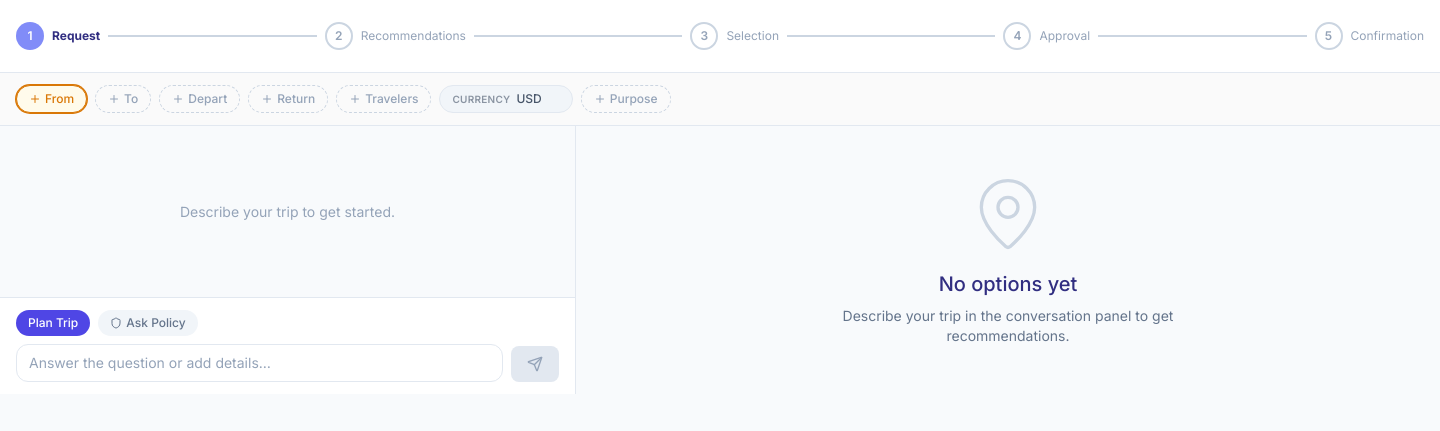
Test case: C7-07 PlannerScreen Ask Policy › needs_review with no draft shows the explicit no-answer message
The image size is (1440, 431).
Step 1. Click the button "Ask Policy" → (148, 323), box [98,310,198,336]
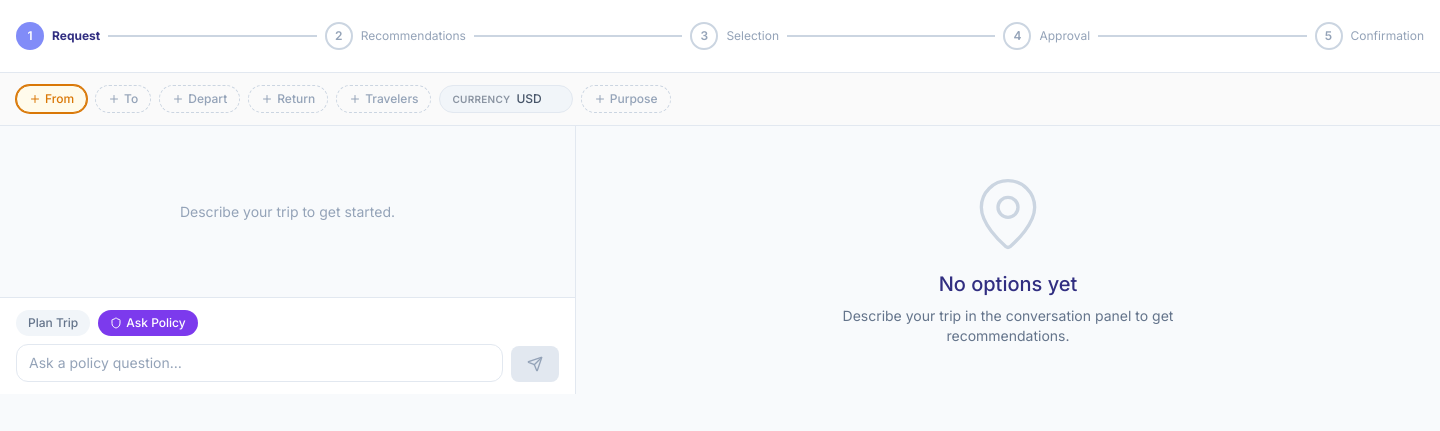
Step 2. Type "Hotel cap?" into the text box → (260, 363), box [16,344,503,382]
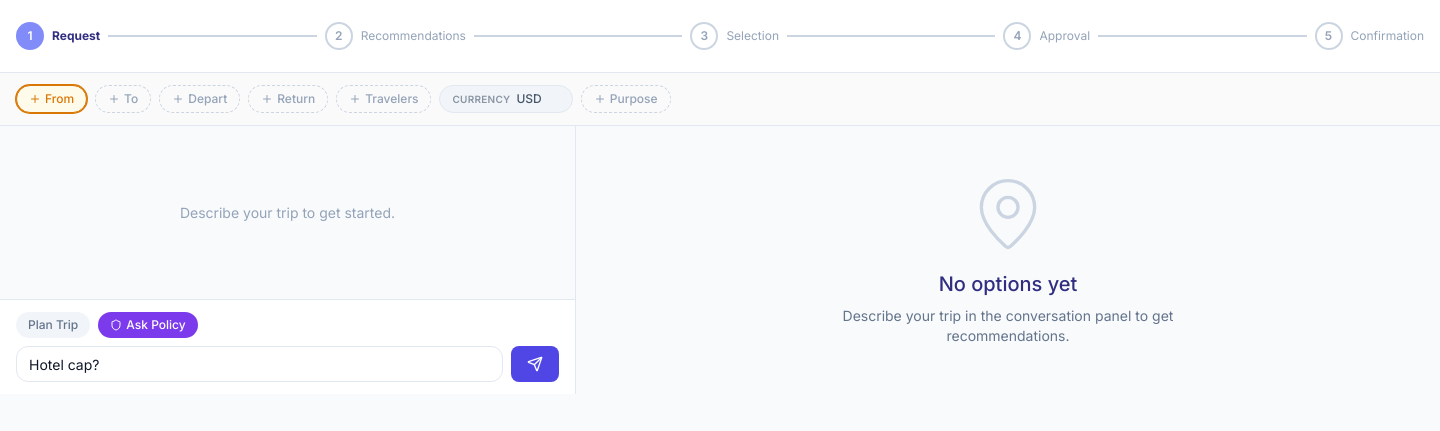
Step 3. Press Enter in the text box, box [16,346,503,382]
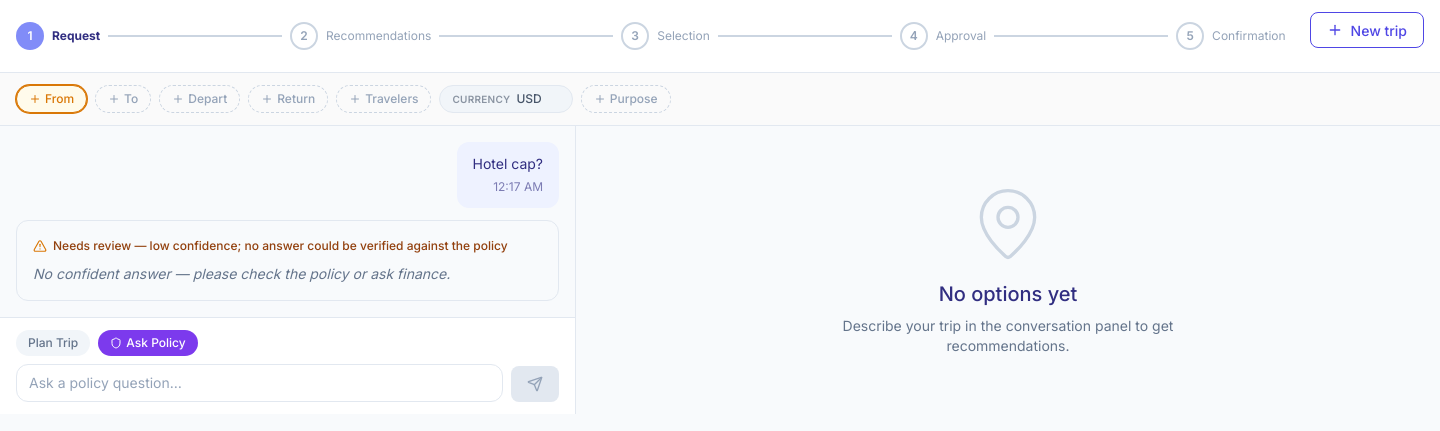
Now the text "No confident answer" is shown, box [33,265,450,282]
